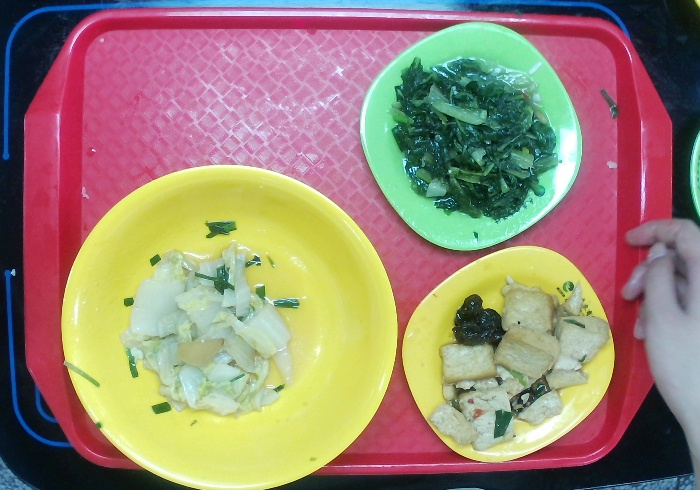YKMZ-Huang_Se_Fang_Die: (398, 246, 614, 466)
YKMZ-Huang_Se_Tang_Wan: (61, 163, 398, 490)
YKMZ-Lv_Se_Fang_Die: (355, 23, 584, 254)
